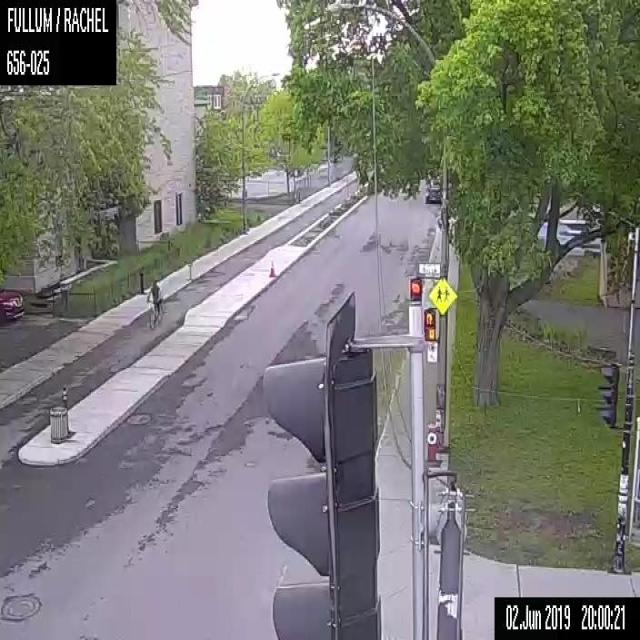construction: (268, 259, 276, 276)
cyclist: (146, 280, 162, 328)
vehicle: (0, 290, 24, 321), (424, 184, 440, 203)
